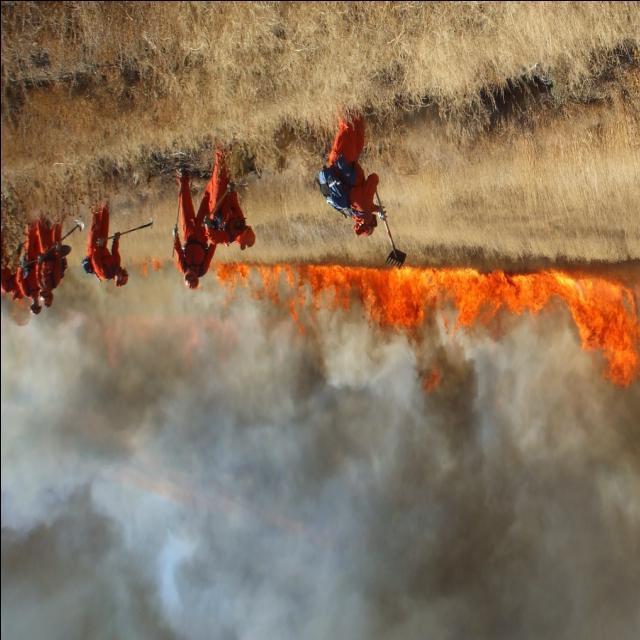Fire: (220, 262, 634, 386)
